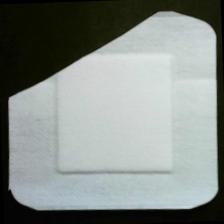Cut: (2, 8, 224, 217)
